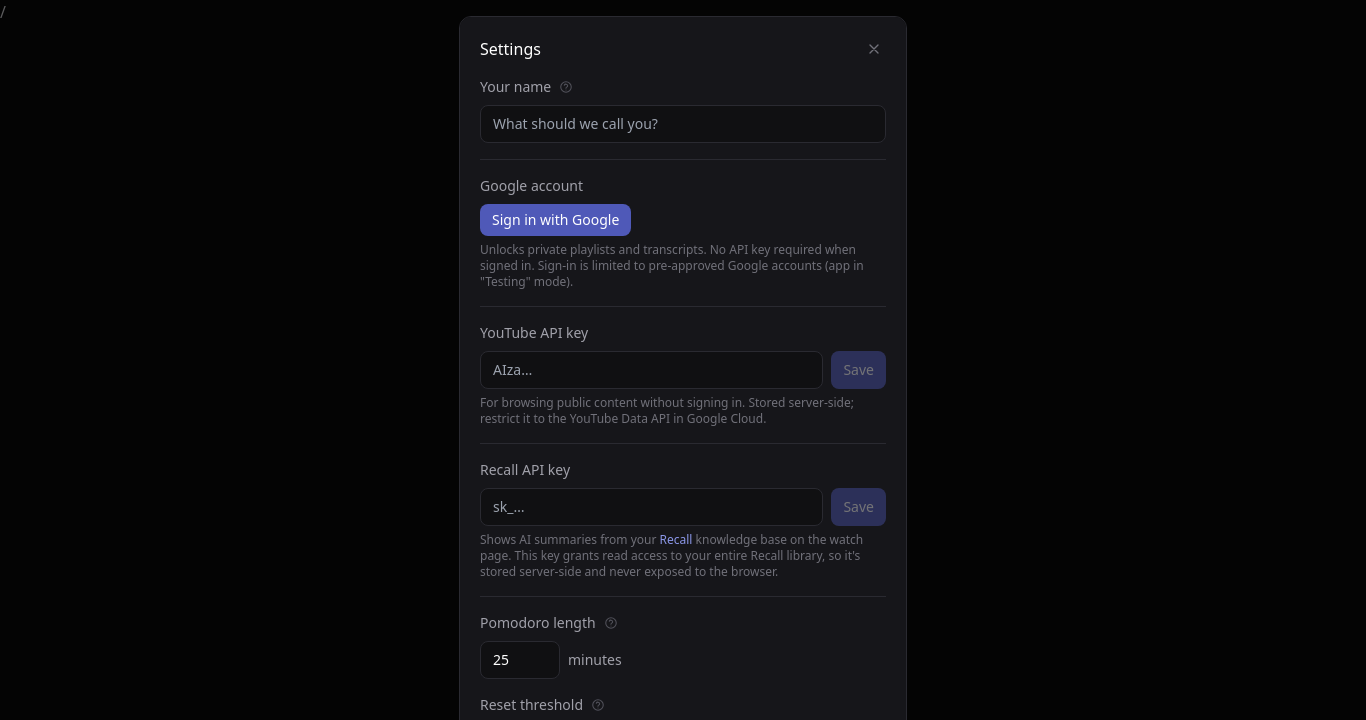
credentials › saves a YouTube API key and shows the server message when rejected
The image size is (1366, 720).
Type "bad" into the password field with placeholder "AIza…" at (652, 370), box [480, 351, 823, 389]
Then press Enter
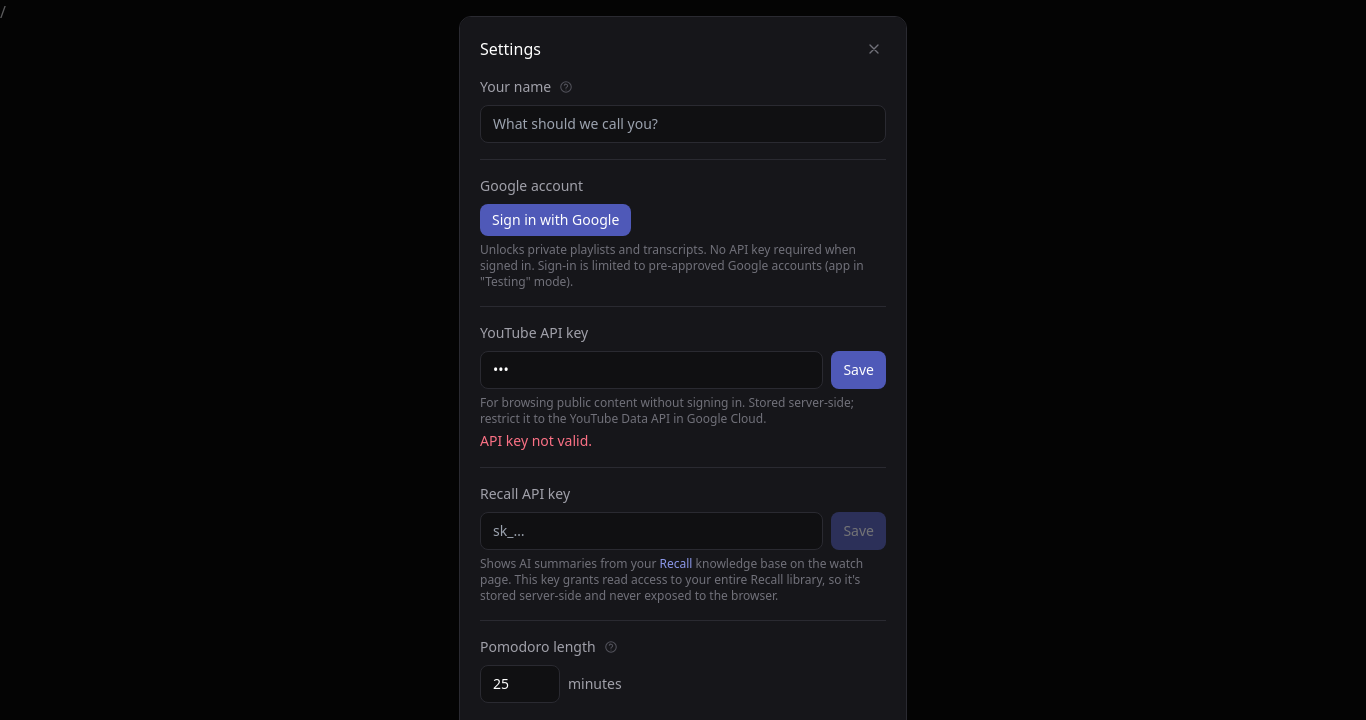
expect the text "API key not valid." is shown: met, box [480, 431, 592, 450]
Click the 1st button "Save" at (859, 370), box [831, 351, 886, 389]
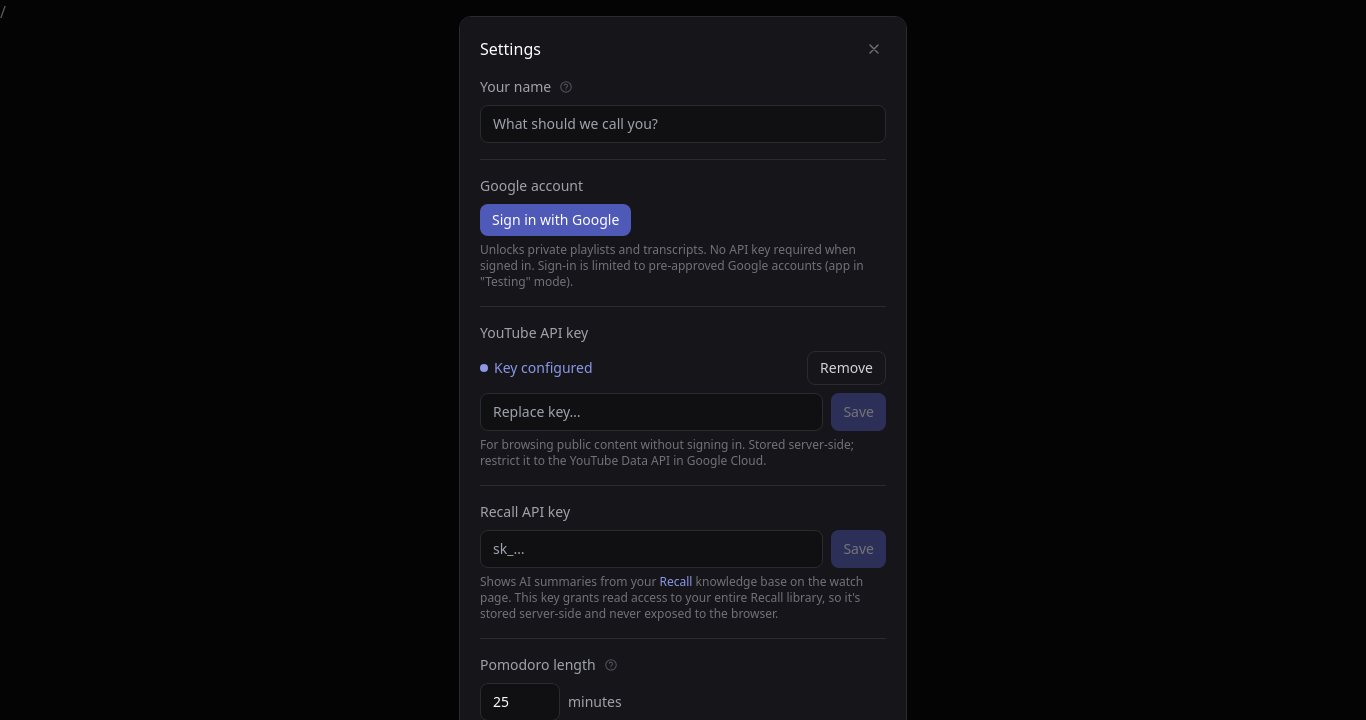
expect the text "Key configured" is shown once: met, box [480, 358, 593, 378]
